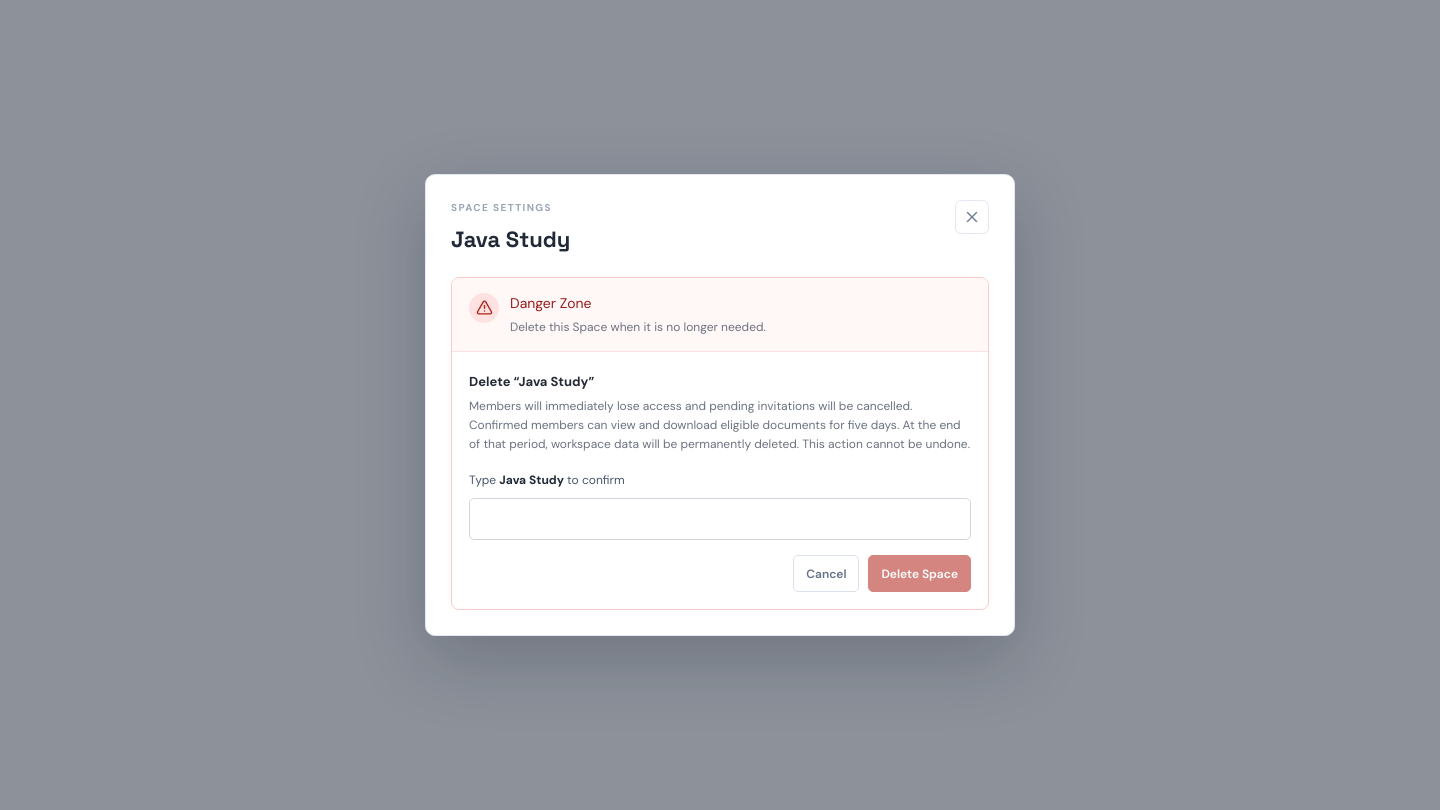
Scenario: workspace deletion confirmation › requires the exact Space name before enabling the final delete action
The width and height of the screenshot is (1440, 810).
Check: the text "download eligible documents for five days" is shown, box [469,398,970,452]
Check: the button "Delete Space" is disabled, box [868,555,971,592]
In the field labelled "Type Java Study to confirm": (720, 519) [469,498,971,540], type "Java study"
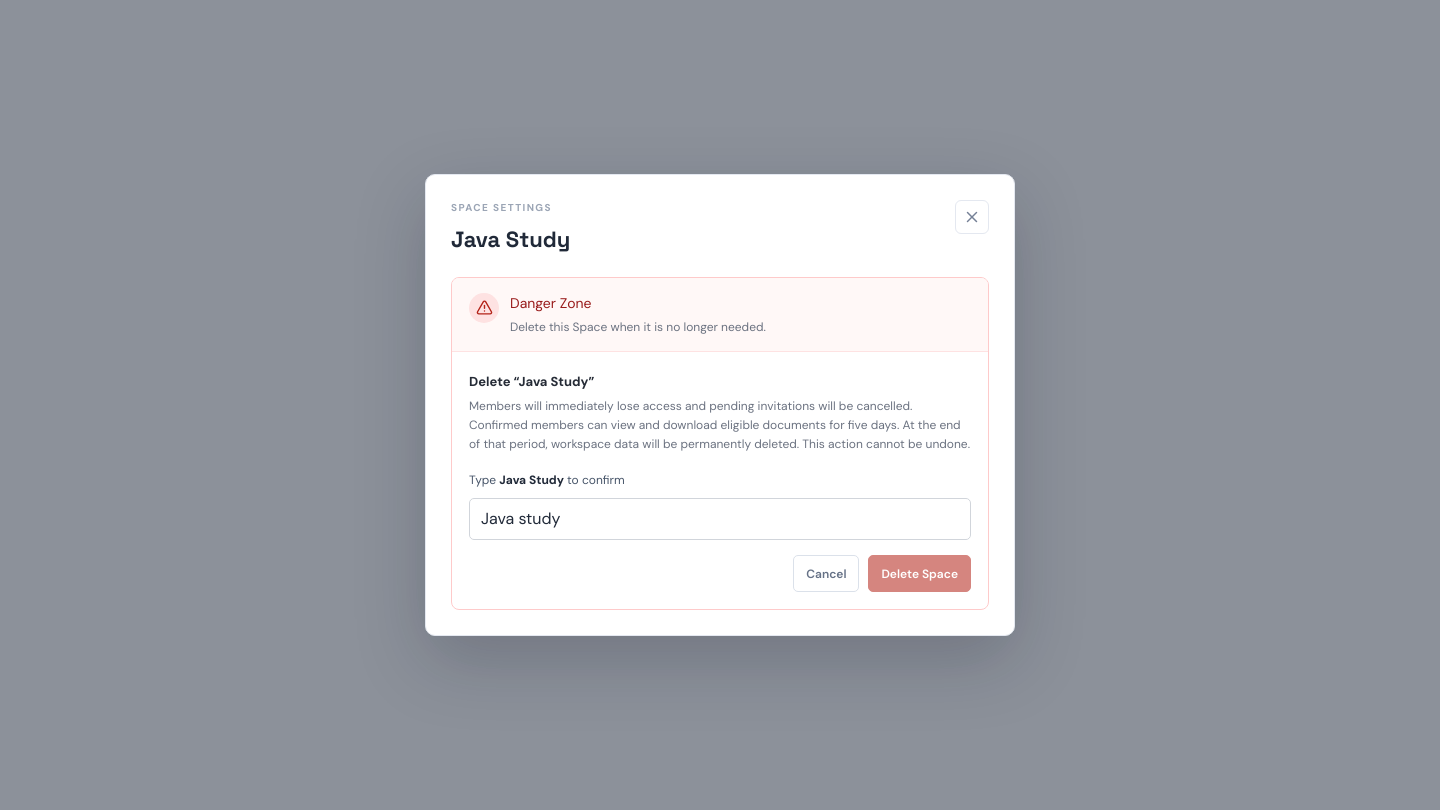
Check: the button "Delete Space" is disabled, box [868,555,971,592]
Replace the text in the field labelled "Type Java Study to confirm" with "Java Study": (720, 519) [469,498,971,540]
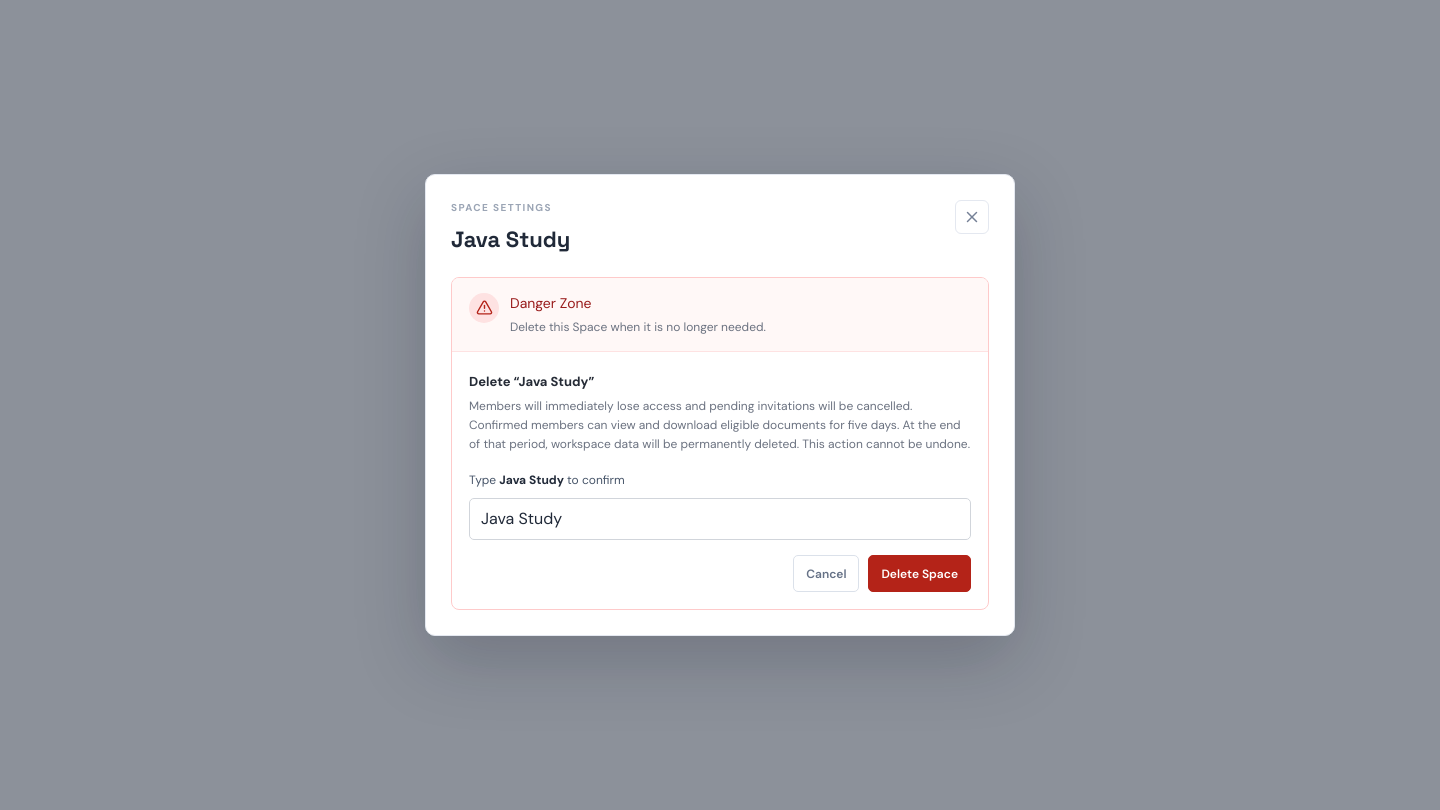
Check: the button "Delete Space" is enabled, box [868,555,971,592]
